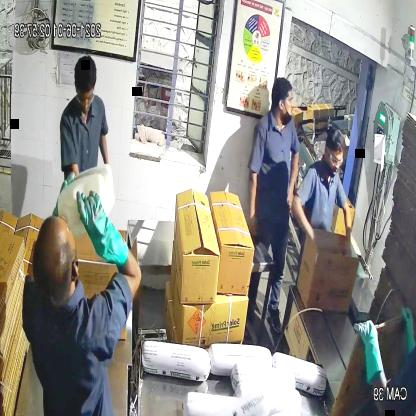goggles: (320, 148, 347, 172)
